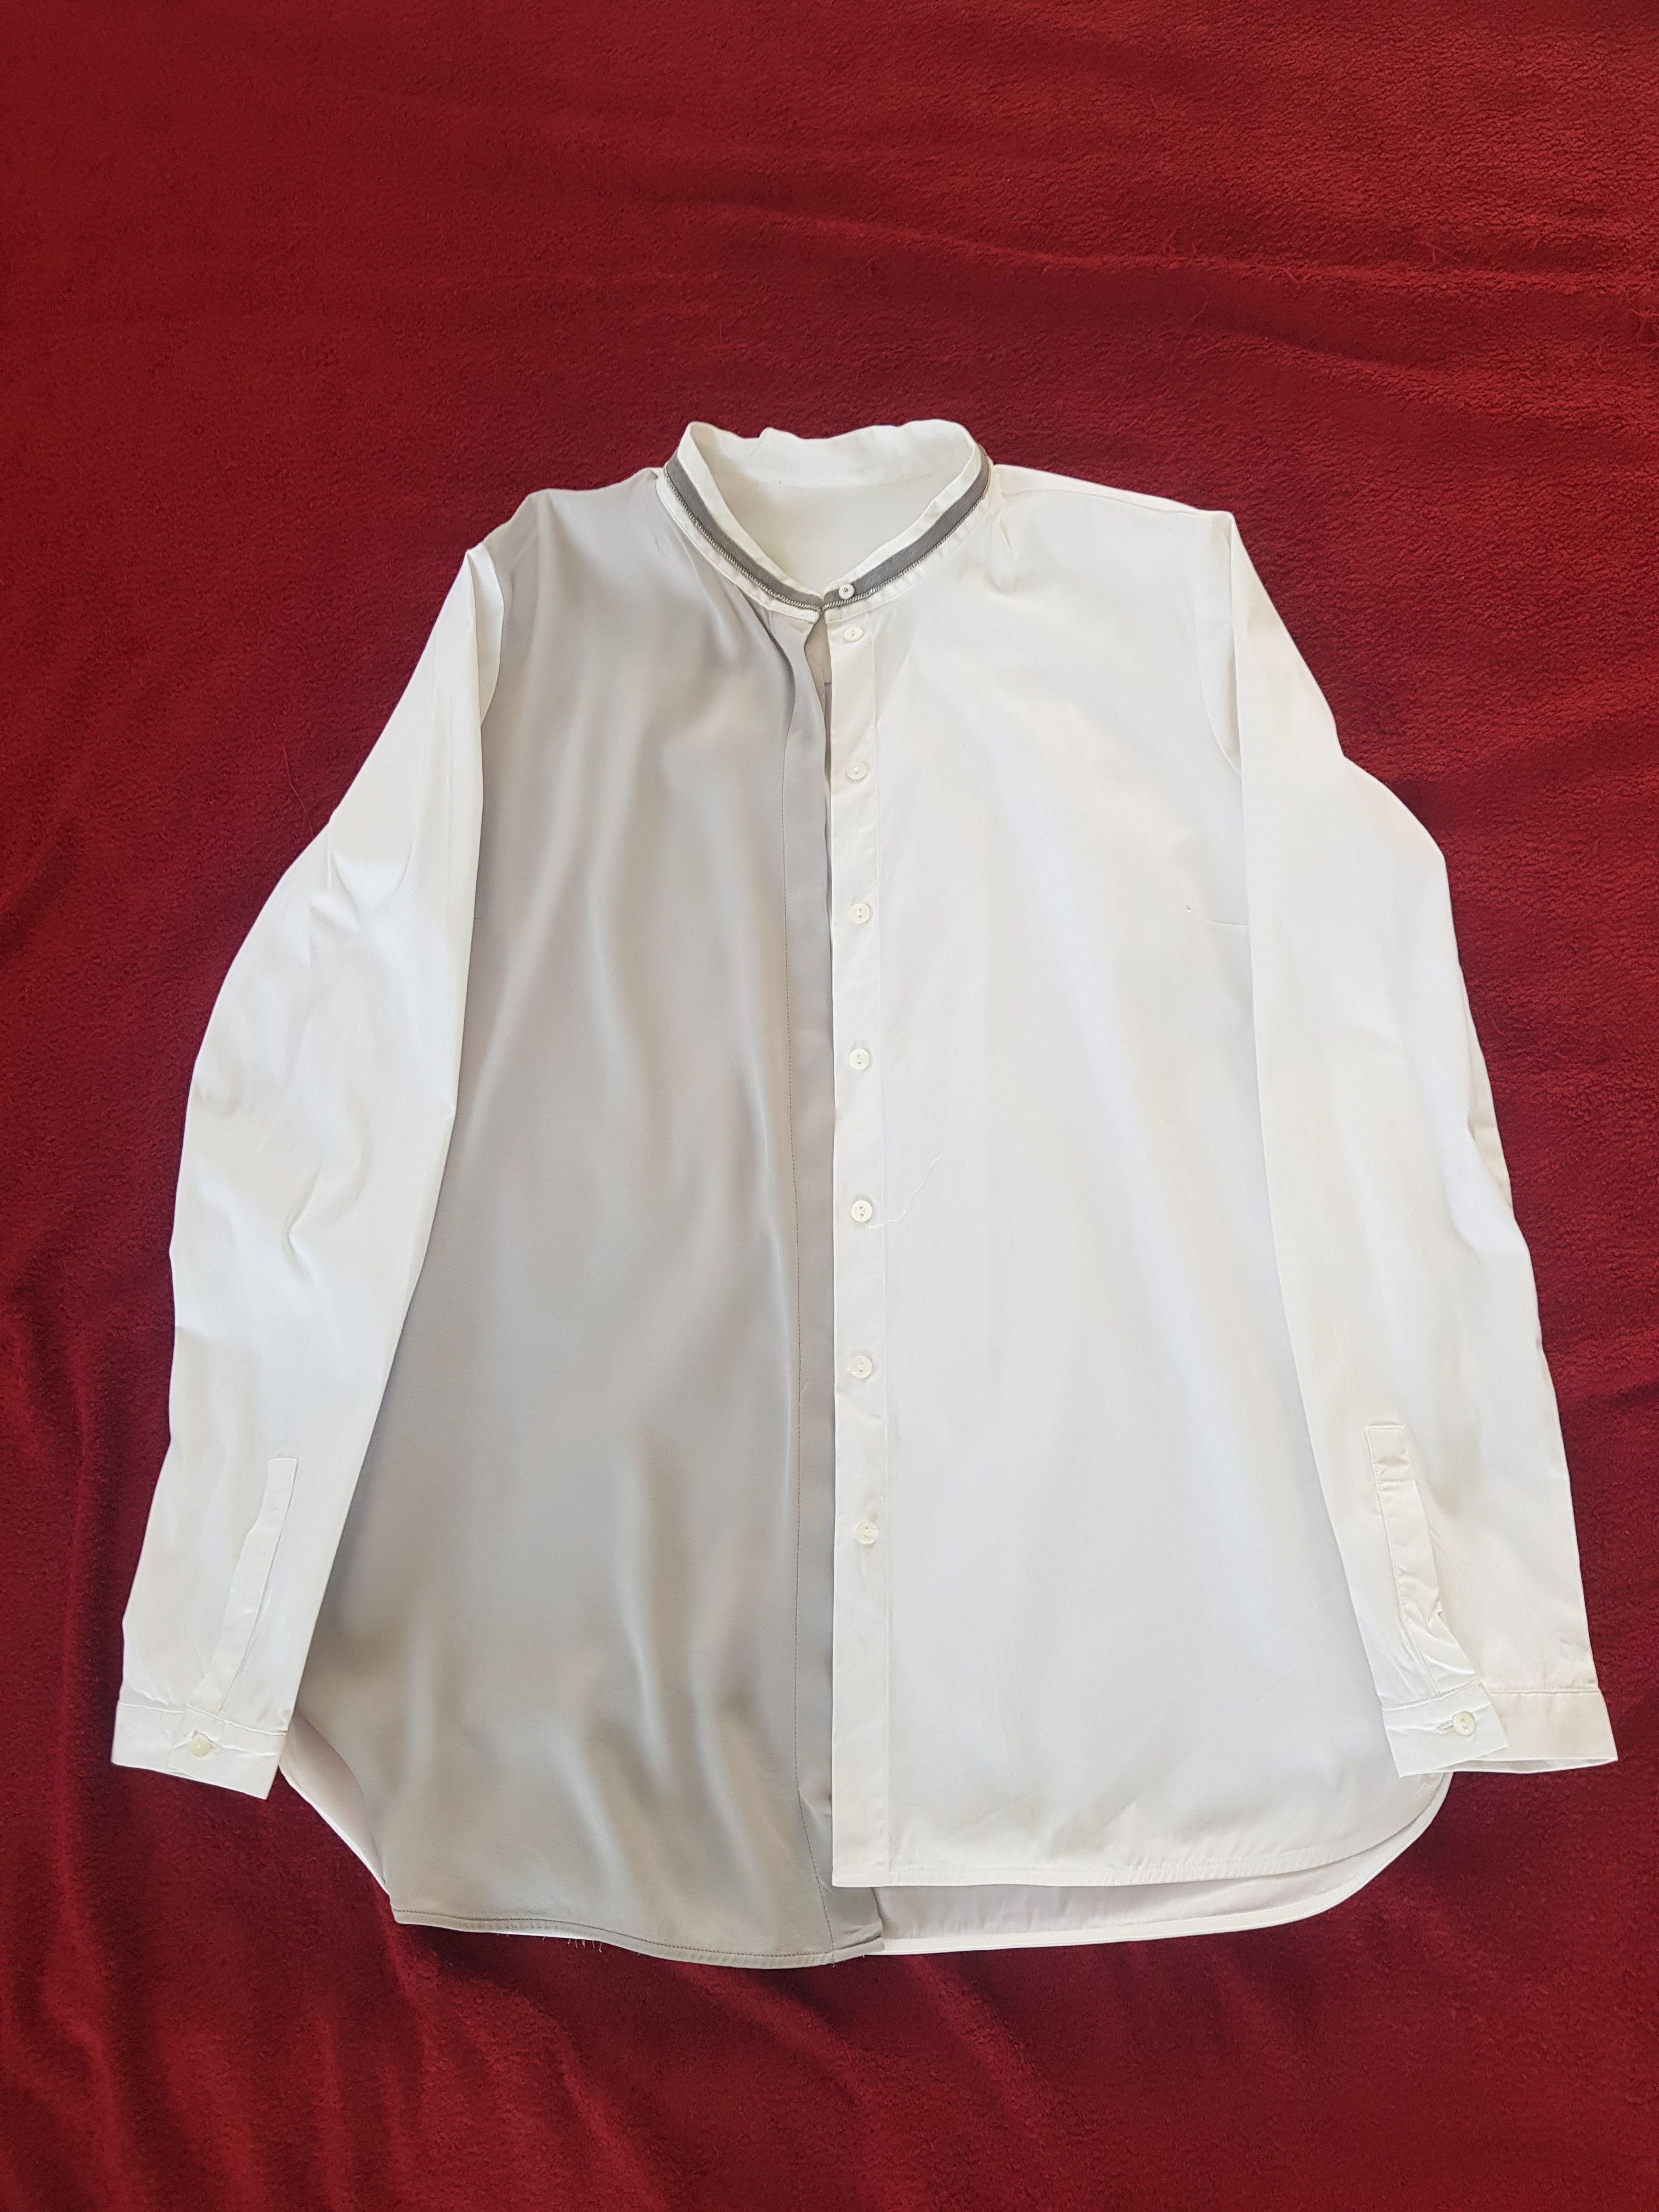clothes: (101, 421, 1617, 1977)
